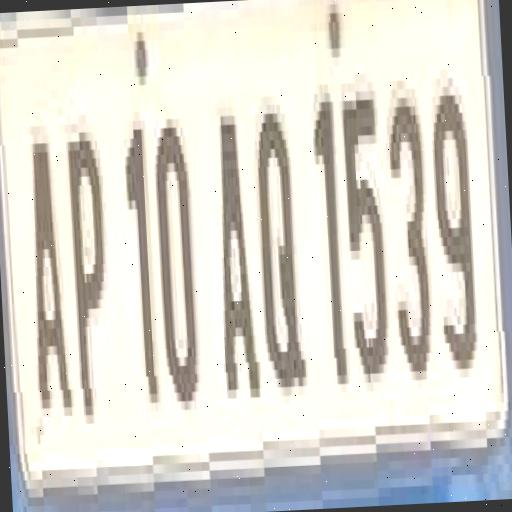number plate: (0, 0, 498, 507)
